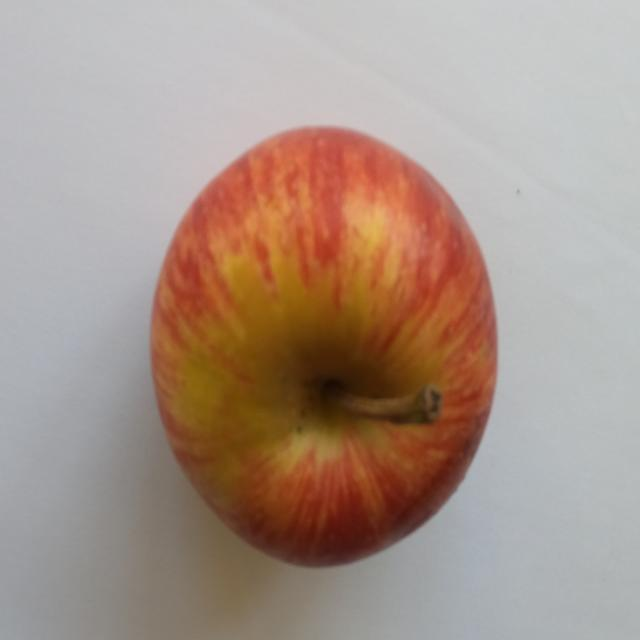Apple: (126, 101, 518, 603)
